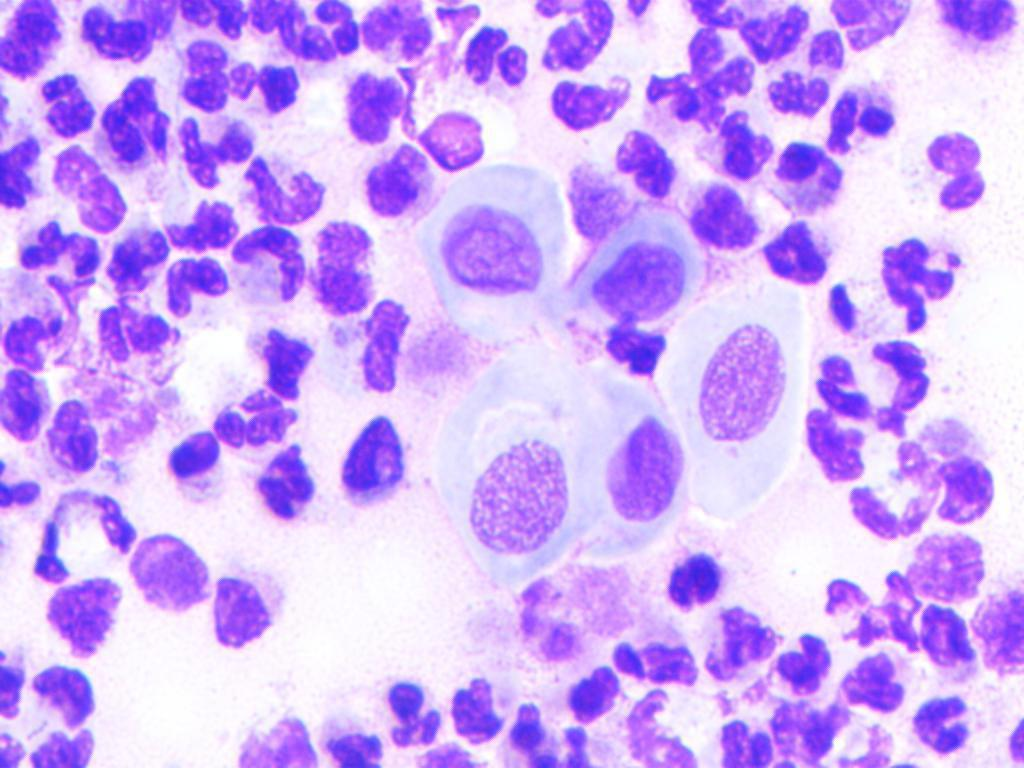epithelial: (686, 287, 813, 510), (458, 429, 584, 579), (429, 169, 560, 312), (587, 386, 690, 566), (576, 225, 687, 377), (122, 532, 217, 618), (216, 567, 284, 657)
neutrophil: (846, 441, 1004, 550), (2, 647, 109, 768), (640, 22, 753, 120), (873, 231, 962, 335), (815, 61, 903, 165), (95, 73, 179, 175), (911, 122, 991, 226), (750, 212, 845, 294), (249, 433, 323, 536), (342, 413, 413, 520), (229, 221, 308, 316), (174, 108, 255, 196), (769, 27, 849, 116), (289, 1, 381, 78), (333, 56, 408, 150), (605, 120, 688, 204), (456, 19, 541, 100), (158, 253, 244, 331), (764, 136, 844, 218), (181, 39, 266, 116), (537, 0, 619, 78), (25, 211, 106, 289), (503, 700, 591, 768), (0, 0, 71, 83), (870, 339, 927, 442), (691, 103, 770, 177), (354, 140, 432, 213), (378, 670, 439, 757), (212, 387, 296, 450), (79, 1, 161, 65), (552, 76, 643, 133), (655, 540, 727, 612), (99, 300, 188, 358), (48, 394, 102, 488), (439, 679, 516, 744), (33, 69, 97, 147), (838, 651, 919, 710), (362, 294, 411, 391), (809, 351, 870, 428), (937, 0, 1024, 51), (772, 631, 834, 702), (921, 599, 976, 679), (563, 660, 624, 731), (601, 638, 694, 682), (597, 317, 668, 374), (909, 690, 968, 757), (0, 368, 48, 449), (713, 712, 779, 768), (2, 311, 68, 362), (854, 0, 917, 53), (174, 0, 247, 42), (0, 138, 41, 212)
